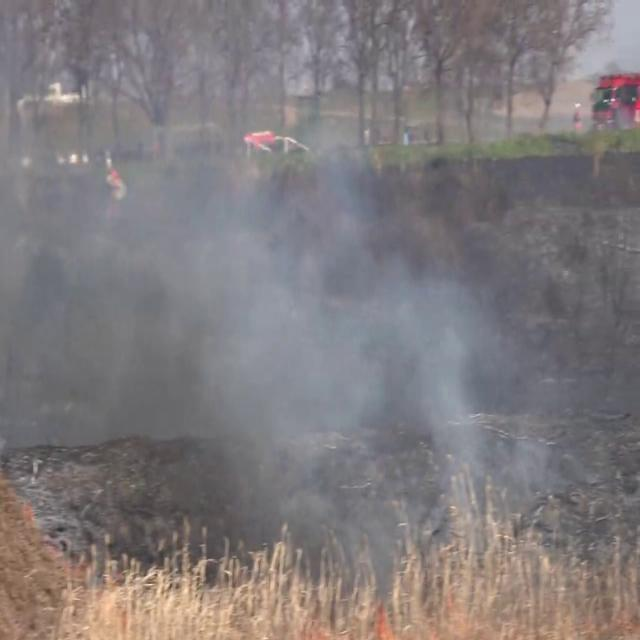Smoke: (1, 0, 550, 618)
